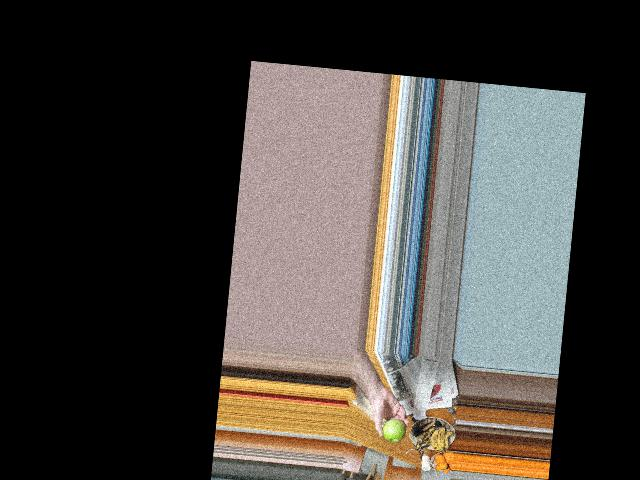apple: (380, 417, 403, 442)
